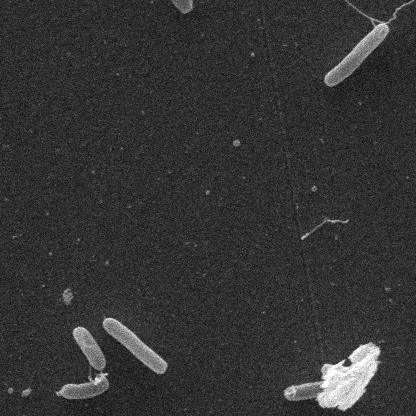cell2cell: (86, 365, 95, 383)
cell2surface: (328, 0, 387, 26), (382, 0, 416, 30)
regular: (323, 23, 388, 89), (101, 317, 170, 378), (70, 325, 105, 368), (58, 372, 113, 399), (284, 379, 329, 403), (134, 0, 195, 14)
spheroplast: (317, 342, 383, 412)
